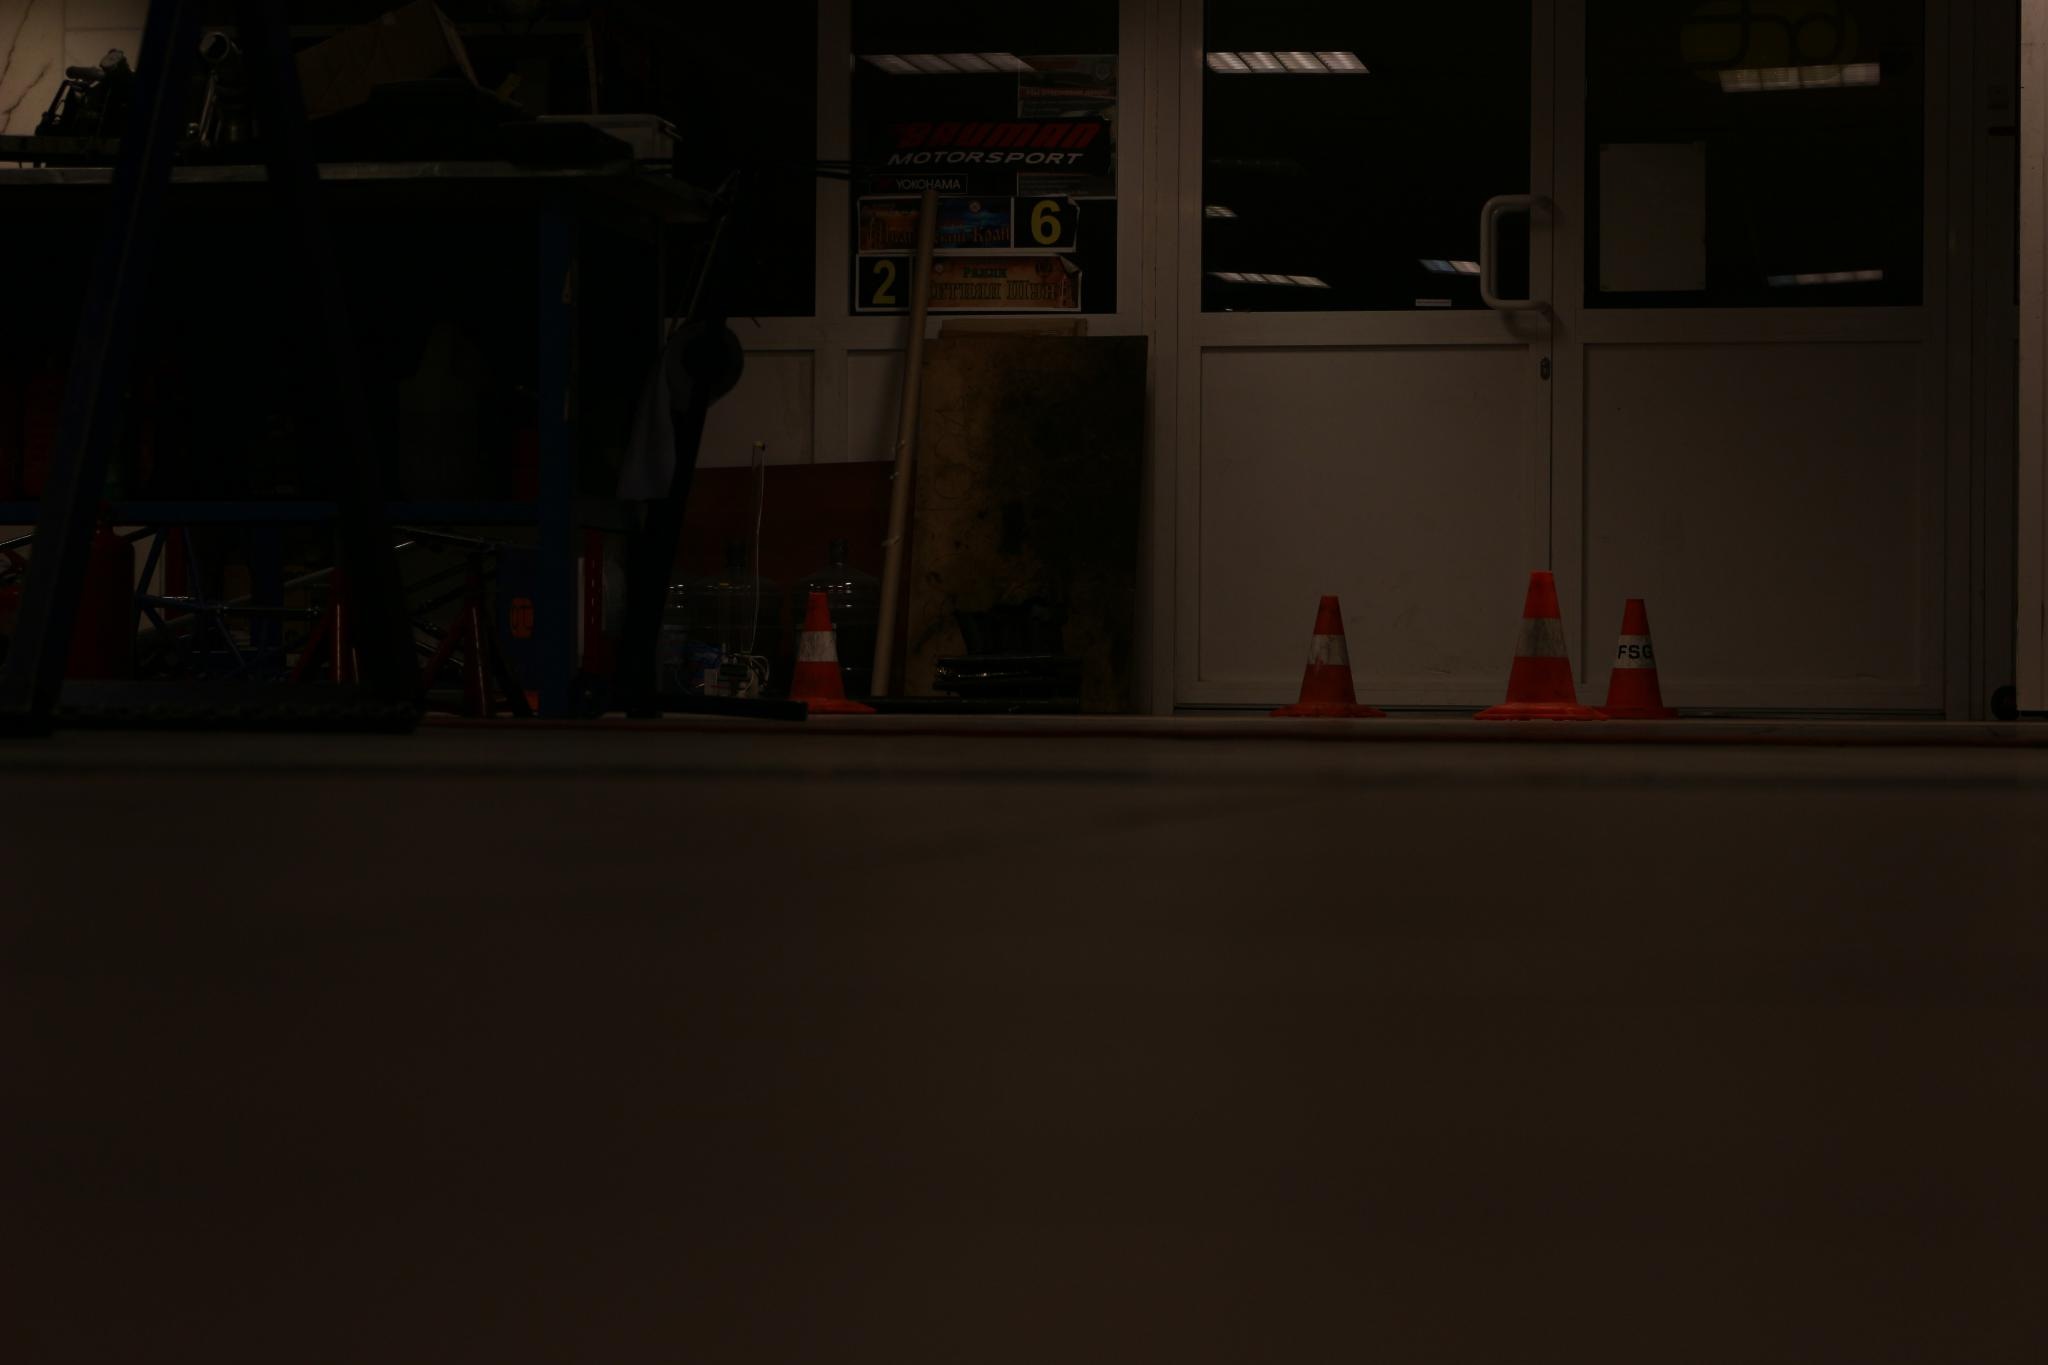Orange_Cone: (1465, 562, 1593, 727), (1273, 580, 1387, 727), (767, 587, 876, 727), (1581, 590, 1680, 722)
